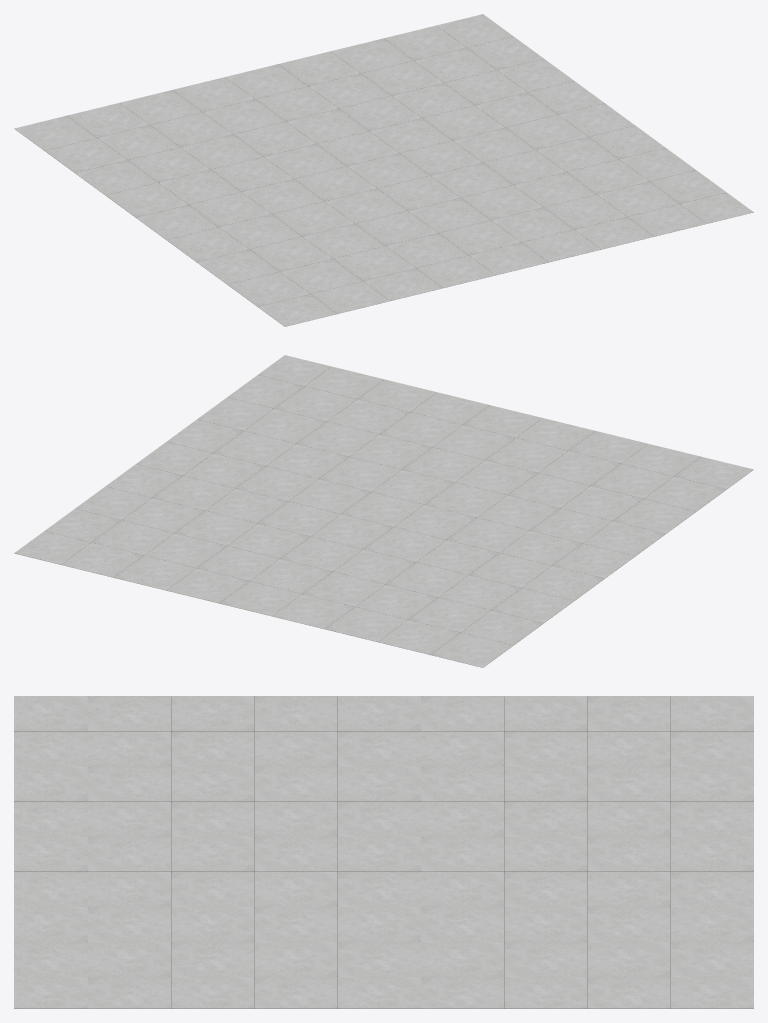
File: aura-nardo-90x90.glb
3 renders of one model, top to bottom at view 1: azimuth 30°, elevation 25°; view 2: azimuth 150°, elevation 25°; view 3: azimuth 270°, elevation 25°, orthographic. The views are drawn at different scales.
Parts seen in each view (by area): view 1: Aura Nardo; view 2: Aura Nardo; view 3: Aura Nardo.
Part boxes in pixels (x1,y1,x2,y2): Aura Nardo: (14, 14, 753, 326); Aura Nardo: (14, 355, 753, 667); Aura Nardo: (14, 696, 753, 1008).
Bounding box in the file's own units: 8 × 0.003 × 8.
2 materials, 1 textured.
